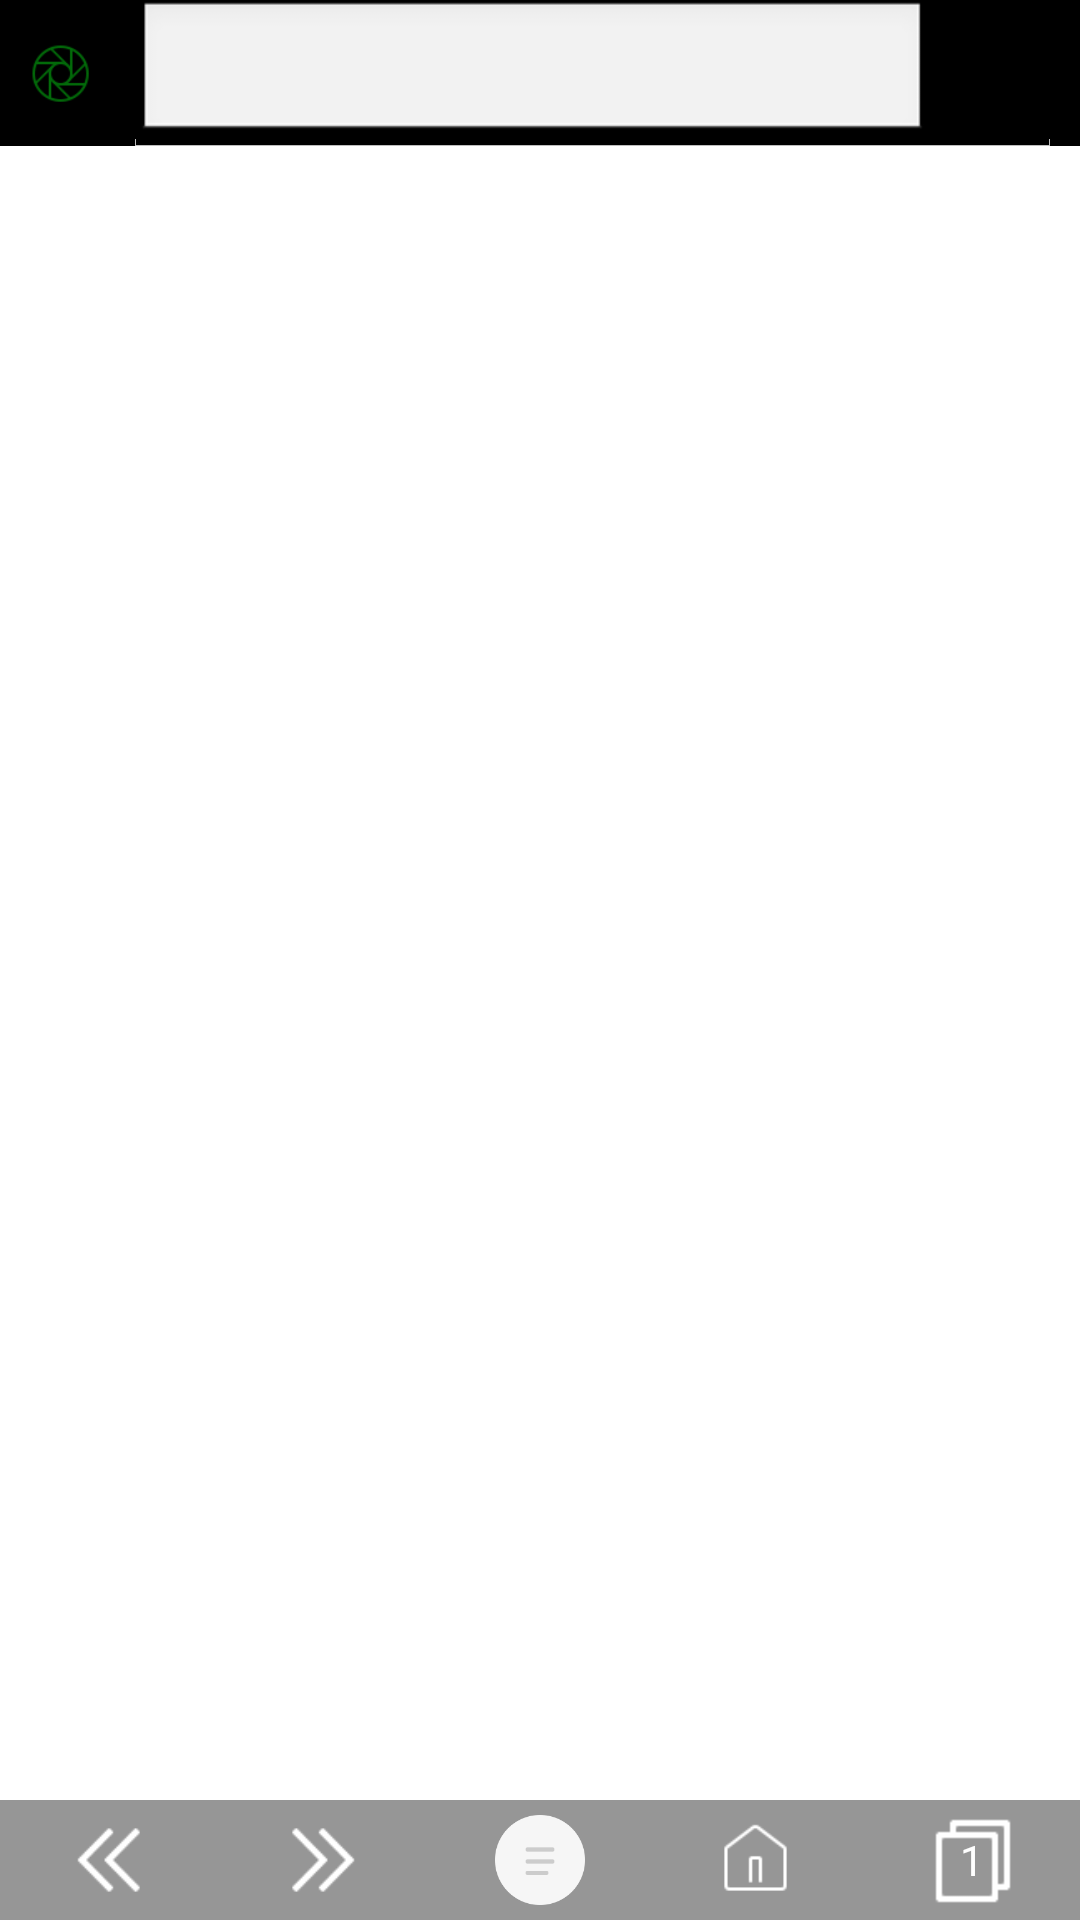

Where to tap for icons on this 1080 × 1920 app screen, as (x,y):
web function: (540,1860)
web home: (755,1858)
web next: (323,1860)
web prev: (109,1860)
